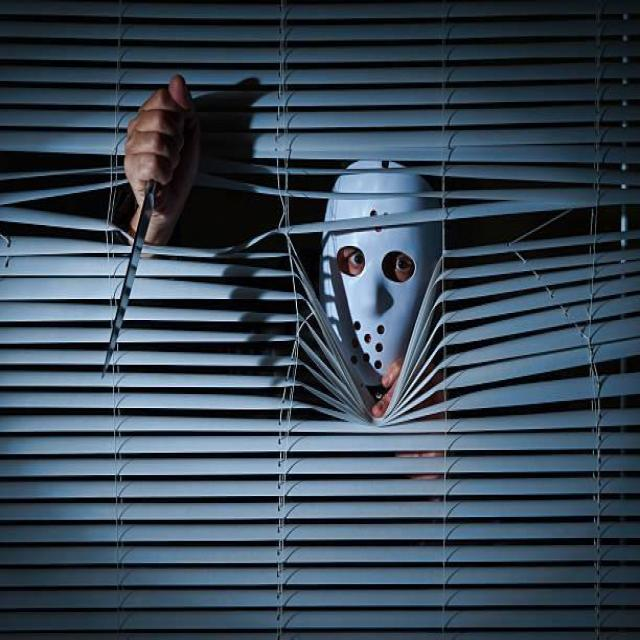faca: (104, 72, 220, 402)
